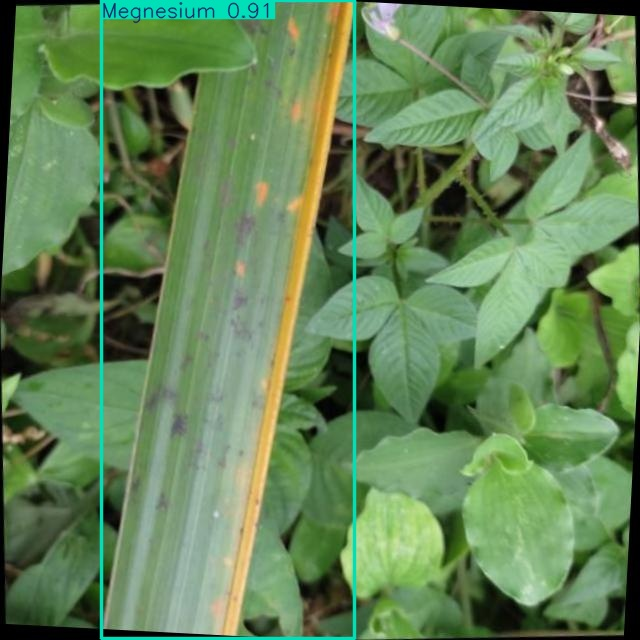Megnesium: (102, 0, 354, 639)
